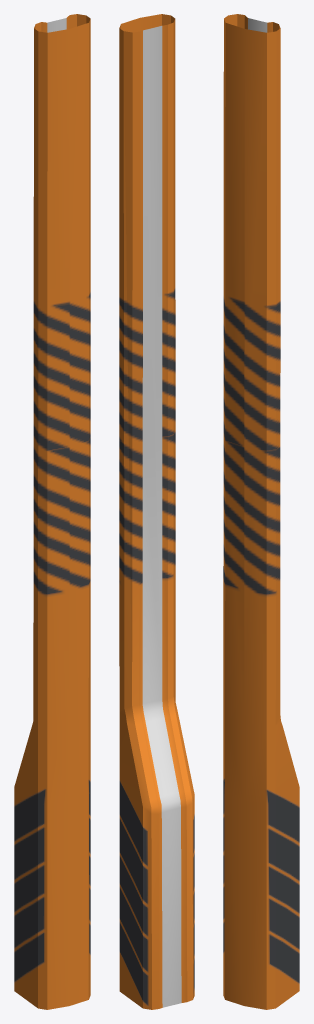
Rendered from Pillier.fbx.
The picture shows the model from 3 angles, left to right: view 1: azimuth 30°, elevation 25°; view 2: azimuth 210°, elevation 25°; view 3: azimuth 330°, elevation 25°; orthographic projection.
Visible parts, largest first — view 1: SM_pilier; view 2: SM_pilier; view 3: SM_pilier.
Part boxes in pixels (left/top/right/bottom): SM_pilier: left=14, top=14, right=90, bottom=1009; SM_pilier: left=119, top=14, right=194, bottom=1009; SM_pilier: left=223, top=14, right=299, bottom=1009.
Size of the model in its own units: 23.86 by 423 by 26.42.
Materials: 1 (1 with a texture image).
